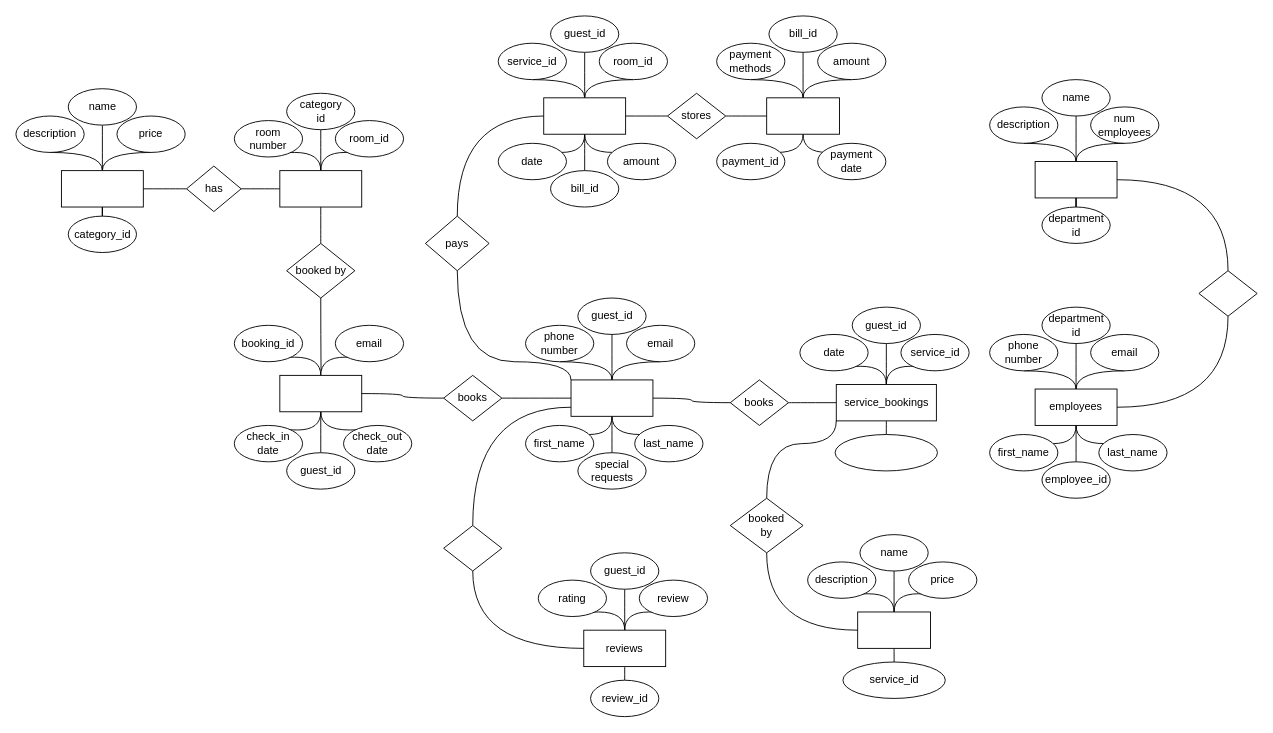
Some shapes in this 1273 by 733 pixel diagram are drawn without their labels. Each missing label, with the box of its shape:
bills: (543, 97, 626, 134)
bookings: (279, 374, 362, 412)
departments: (1034, 161, 1117, 198)
guests: (570, 379, 653, 416)
leaves: (443, 525, 502, 571)
payments: (766, 97, 839, 134)
room categories: (61, 170, 143, 207)
rooms: (279, 170, 362, 207)
service_booking_id: (834, 434, 937, 471)
services: (857, 611, 930, 648)
works: (1198, 270, 1257, 316)
